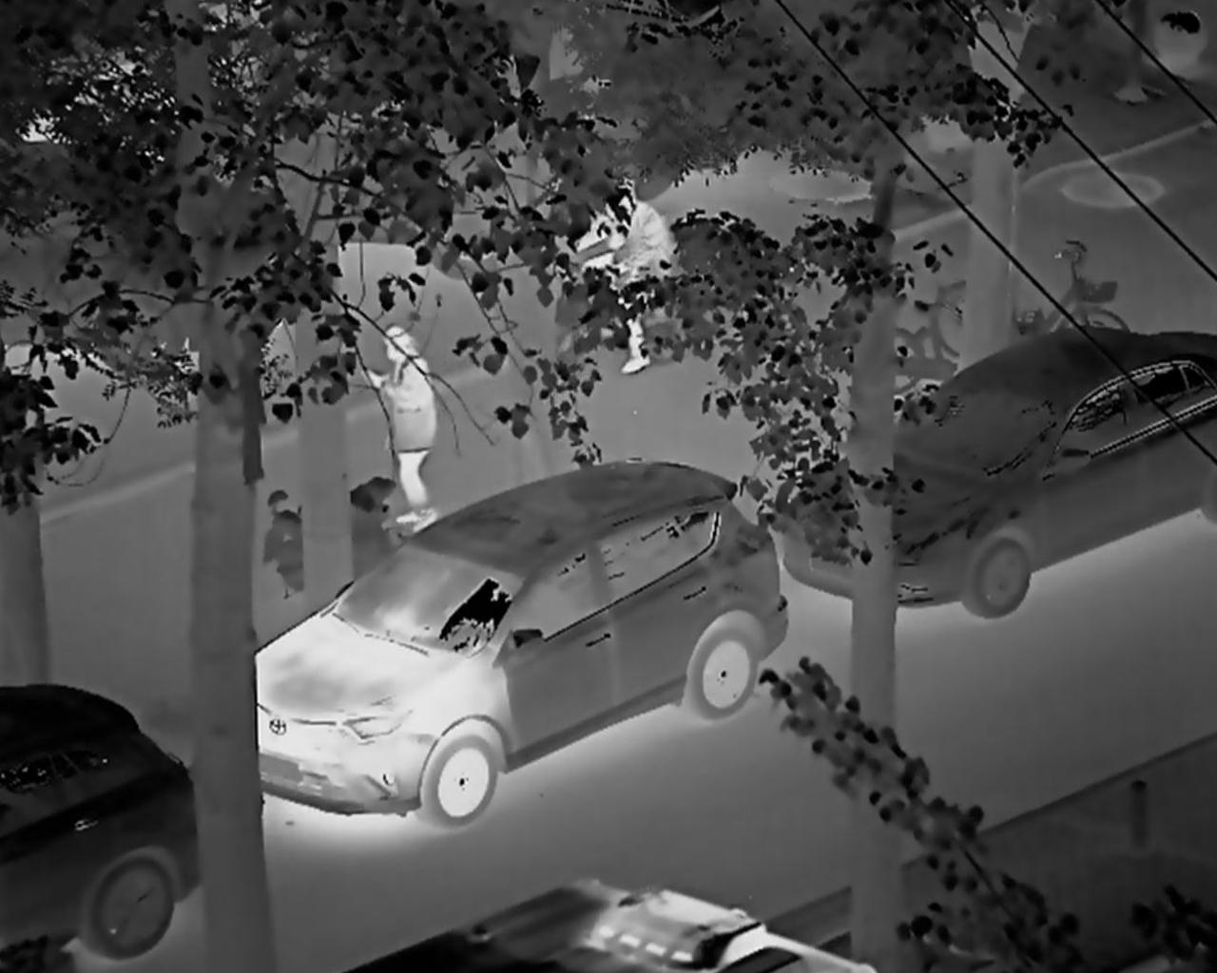person: (337, 303, 460, 539), (563, 161, 678, 391)
